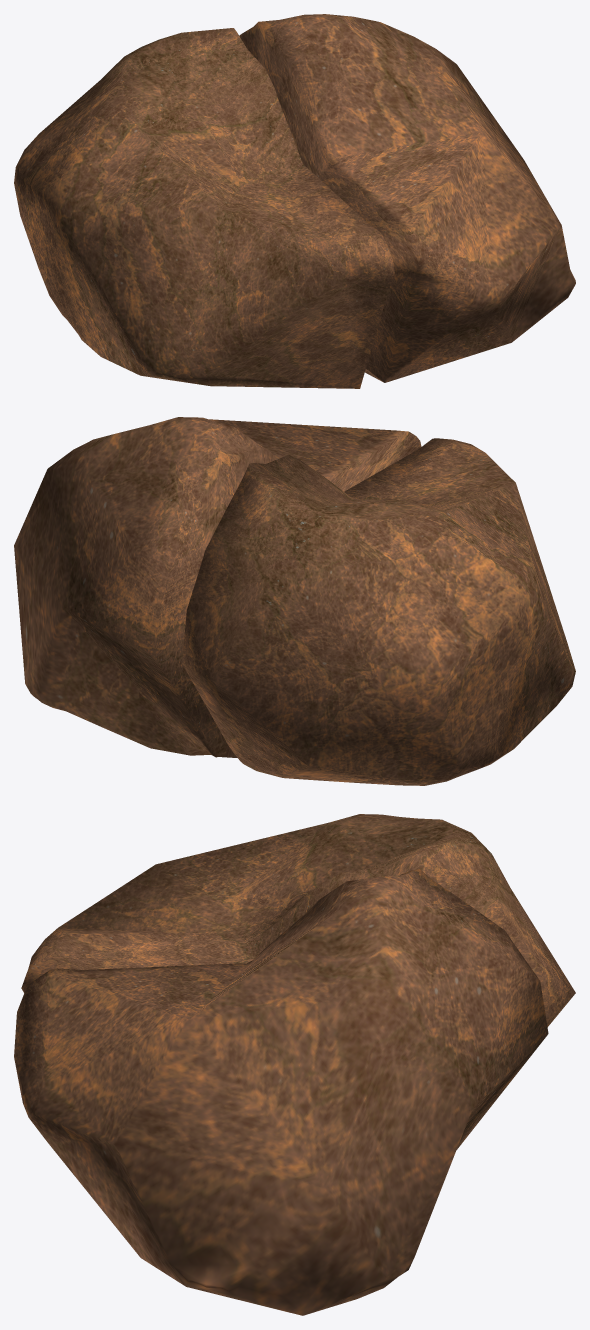
Rendered from MarsRockSplit.fbx.
The picture shows the model from 3 angles, top to bottom: view 1: azimuth 30°, elevation 25°; view 2: azimuth 150°, elevation 25°; view 3: azimuth 270°, elevation 25°; orthographic projection. The views are drawn at different scales.
Parts seen in each view (by area): view 1: Mars_rock.016, Mars_rock.001; view 2: Mars_rock.016, Mars_rock.001; view 3: Mars_rock.001, Mars_rock.016.
Part boxes in pixels (box(x1,y1,x2,y2)): Mars_rock.016: box(14, 28, 394, 388); Mars_rock.001: box(239, 14, 575, 382); Mars_rock.016: box(182, 438, 575, 785); Mars_rock.001: box(14, 417, 421, 757); Mars_rock.001: box(14, 869, 548, 1315); Mars_rock.016: box(21, 814, 575, 1027).
Bounding box in the file's own units: 135 × 120 × 80.88.
